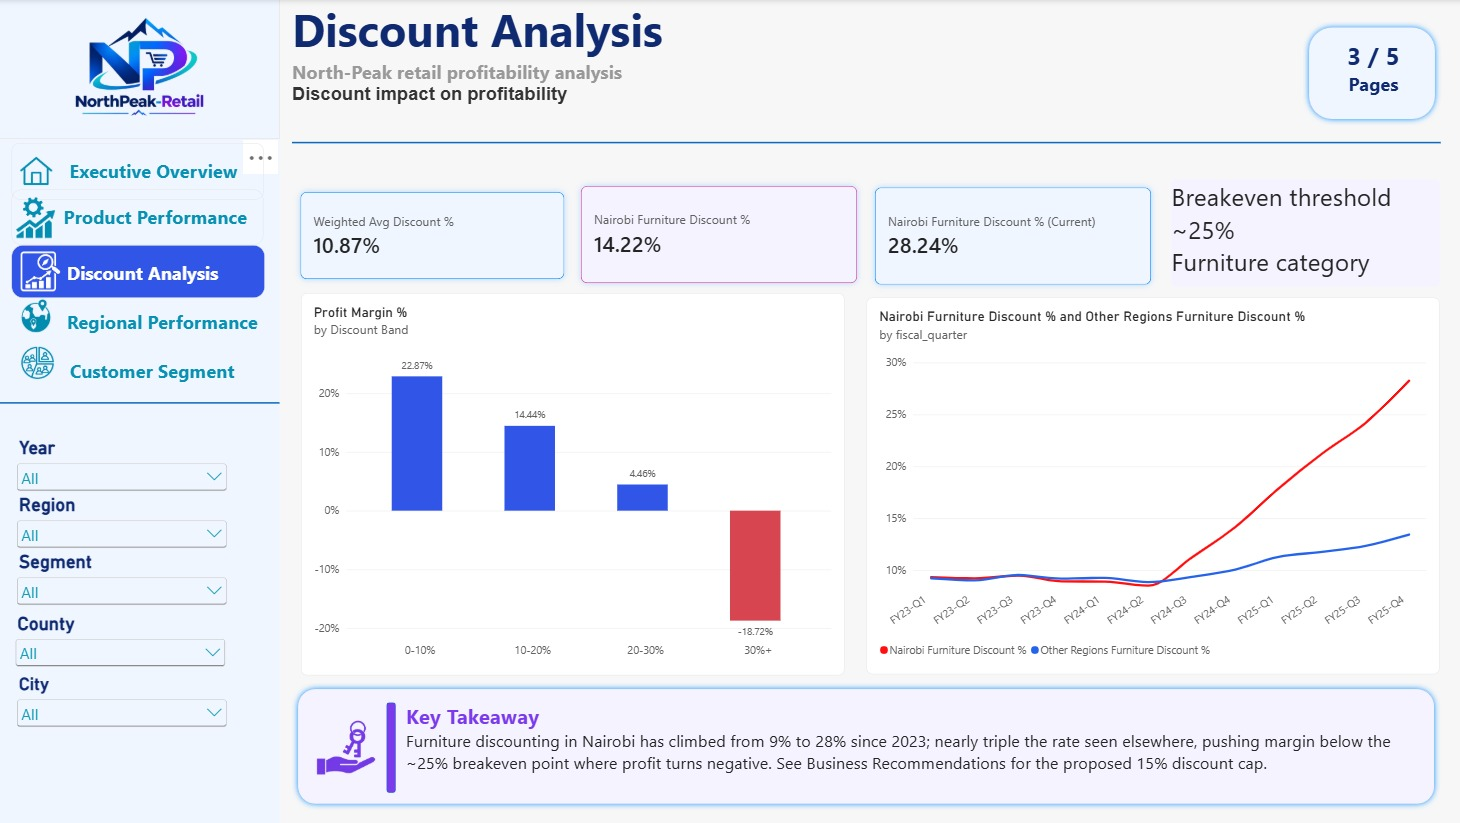

What the dashboard file says about the page in this screenshot:
{"tool":"powerbi","page":{"name":"Discount Analysis","canvas":[1920,1080],"ordinal":2},"visuals":[{"type":"shape","box":[0,0,368,1080],"z":0},{"type":"image","box":[0,0,368,182],"z":1000},{"type":"slicer","fields":{"Values":["dim_date.year"]},"box":[19.6,572.7,284,76],"z":2000},{"type":"slicer","fields":{"Values":["dim_region.region"]},"box":[19.6,647.2,284,74],"z":3000},{"type":"slicer","fields":{"Values":["dim_customer.segment"]},"box":[19.6,721.8,284,100],"z":4000},{"type":"slicer","fields":{"Values":["dim_region.county"]},"box":[17.7,802.2,284,92],"z":5000},{"type":"slicer","fields":{"Values":["dim_region.city"]},"box":[19.6,882.6,284,74],"z":6000},{"type":"shape","box":[384,164,1502,46],"z":7000},{"type":"shape","box":[383.9,894.9,1501.3,165.8],"z":8000},{"type":"textbox","box":[18,188,330,74],"z":9000},{"type":"textbox","box":[17.7,249.1,329.5,72.6],"z":10000},{"type":"textbox","box":[17.3,321.5,331.4,69.2],"z":11000},{"type":"textbox","box":[17.3,385.8,328.9,64.3],"z":12000},{"type":"textbox","box":[17.3,450.1,331.4,76.7],"z":13000},{"type":"shape","box":[0,502,368,52],"z":14000},{"type":"shape","box":[1706.3,29.4,180.4,135.3],"z":15000},{"type":"textbox","box":[1731.8,51,133.4,96.1],"z":16000},{"type":"shape","box":[508,920,12,118],"z":17000},{"type":"textbox","box":[533.8,919.9,1303.7,118.1],"z":18000},{"type":"image","box":[17.3,390.8,64.3,49.5],"z":19000},{"type":"image","box":[23.5,449.1,56.9,53],"z":20000},{"type":"image","box":[384.4,894.4,141.2,168.7],"z":21000},{"type":"image","box":[19.6,198.1,60.8,54.9],"z":22000},{"type":"shape","box":[19.6,188.3,327.5,56.9],"z":23000},{"type":"textbox","box":[384.4,0,1292.5,164.7],"z":24000},{"type":"cardVisual","fields":{"Data":["fact_sales.Weighted Avg Discount %"]},"box":[383.9,240.8,368,136.3],"z":25000},{"type":"cardVisual","fields":{"Data":["fact_sales.Nairobi Furniture Discount %"]},"box":[751.8,233.9,383.9,149.9],"z":26000},{"type":"image","box":[7.4,252.3,79.1,64.3],"z":27000},{"type":"shape","box":[17.3,252.3,328.9,64.3],"z":28000},{"type":"cardVisual","fields":{"Data":["fact_sales.Nairobi Furniture Discount % (Current)"]},"box":[1135.7,236.2,383.9,149.9],"z":29000},{"type":"textbox","box":[1533.1,236.2,352.1,140.8],"z":30000},{"type":"clusteredColumnChart","fields":{"Category":["fact_sales.Discount Band"],"Y":["fact_sales.Profit Margin %"]},"box":[395.2,383.9,710.9,499.7],"z":31000},{"type":"lineChart","fields":{"Y":["fact_sales.Nairobi Furniture Discount %","fact_sales.Other Regions Furniture Discount %"],"Category":["dim_date.fiscal_quarter"]},"box":[1135.7,390.7,749.5,492.9],"z":32000},{"type":"image","box":[22.7,322.5,63.6,68.1],"z":33000},{"type":"shape","box":[17.7,392.3,329.5,56.9],"z":34000}]}

Visuals, with their boxes on the page's 1920x1080 design canvas (x1, y1, x2, y2). These are canvas units, not pixel positions in the 1460x823 screenshot, which may show the page scaled, cropped or inside an application window:
shape: l=0, t=0, r=368, b=1080
image: l=0, t=0, r=368, b=182
slicer - dim_date.year: l=20, t=573, r=304, b=649
slicer - dim_region.region: l=20, t=647, r=304, b=721
slicer - dim_customer.segment: l=20, t=722, r=304, b=822
slicer - dim_region.county: l=18, t=802, r=302, b=894
slicer - dim_region.city: l=20, t=883, r=304, b=957
shape: l=384, t=164, r=1886, b=210
shape: l=384, t=895, r=1885, b=1061
textbox: l=18, t=188, r=348, b=262
textbox: l=18, t=249, r=347, b=322
textbox: l=17, t=322, r=349, b=391
textbox: l=17, t=386, r=346, b=450
textbox: l=17, t=450, r=349, b=527
shape: l=0, t=502, r=368, b=554
shape: l=1706, t=29, r=1887, b=165
textbox: l=1732, t=51, r=1865, b=147
shape: l=508, t=920, r=520, b=1038
textbox: l=534, t=920, r=1838, b=1038
image: l=17, t=391, r=82, b=440
image: l=24, t=449, r=80, b=502
image: l=384, t=894, r=526, b=1063
image: l=20, t=198, r=80, b=253
shape: l=20, t=188, r=347, b=245
textbox: l=384, t=0, r=1677, b=165
cardVisual - fact_sales.Weighted Avg Discount %: l=384, t=241, r=752, b=377
cardVisual - fact_sales.Nairobi Furniture Discount %: l=752, t=234, r=1136, b=384
image: l=7, t=252, r=86, b=317
shape: l=17, t=252, r=346, b=317
cardVisual - fact_sales.Nairobi Furniture Discount % (Current): l=1136, t=236, r=1520, b=386
textbox: l=1533, t=236, r=1885, b=377
clusteredColumnChart - fact_sales.Discount Band x fact_sales.Profit Margin %: l=395, t=384, r=1106, b=884
lineChart - fact_sales.Nairobi Furniture Discount % x fact_sales.Other Regions Furniture Discount %: l=1136, t=391, r=1885, b=884
image: l=23, t=322, r=86, b=391
shape: l=18, t=392, r=347, b=449
